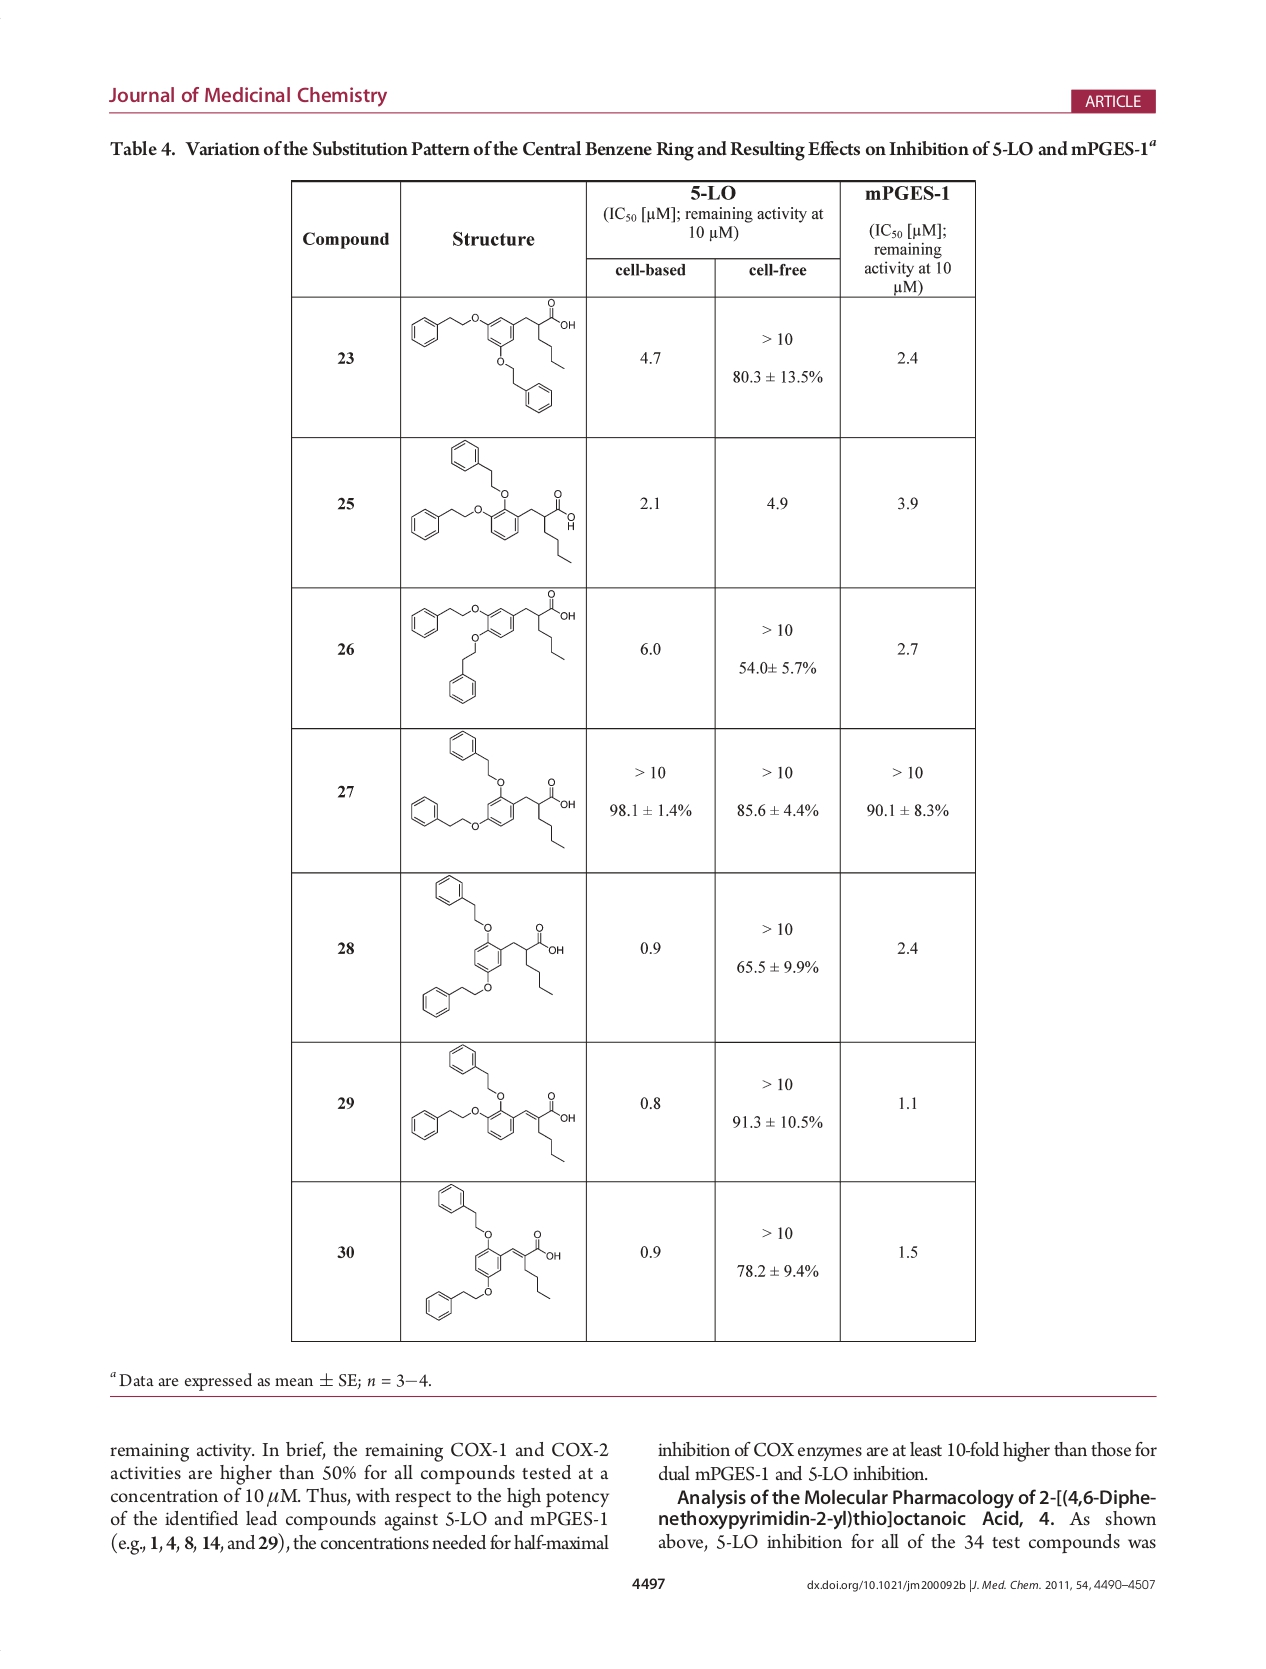exist_molecular: (418, 874, 568, 1025), (410, 438, 580, 571), (408, 1043, 578, 1168), (407, 589, 578, 707), (408, 298, 576, 418), (408, 731, 577, 850), (420, 1184, 563, 1323)
